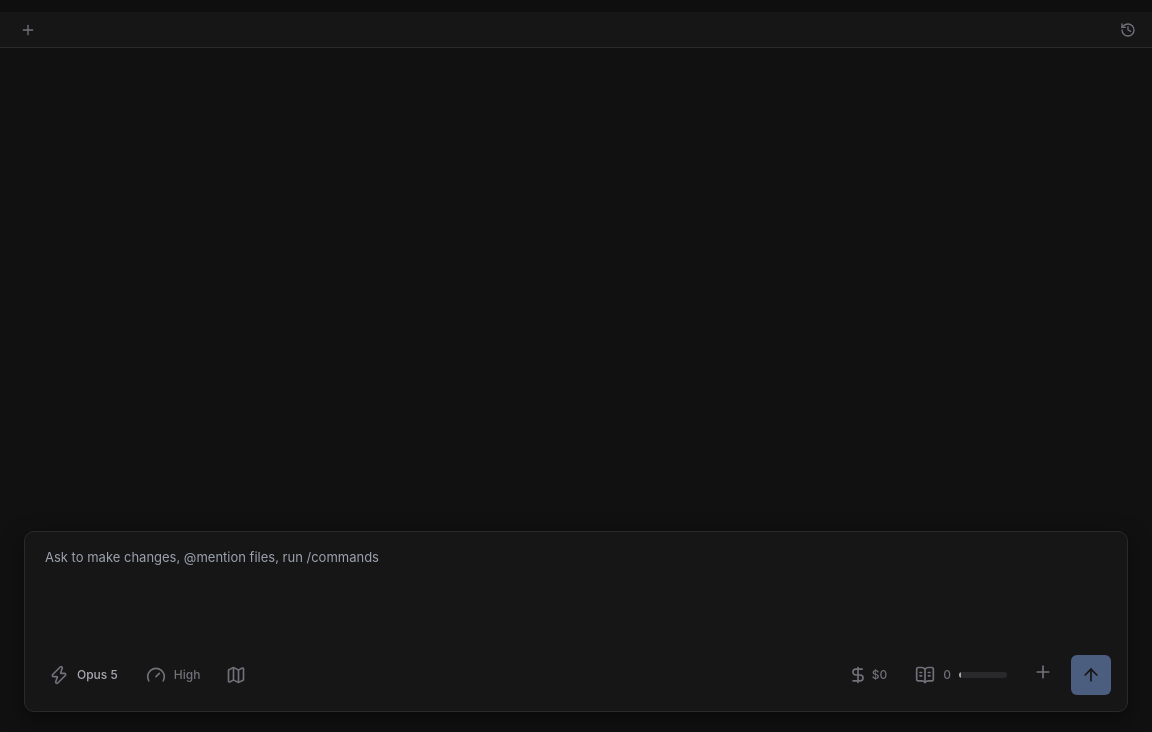
Test: ChatPanel reconstruction › uses the latest provider usage snapshot instead of summing resumed contexts
Click the button with test id "composer-context" at (961, 675), box [907,657,1015,693]
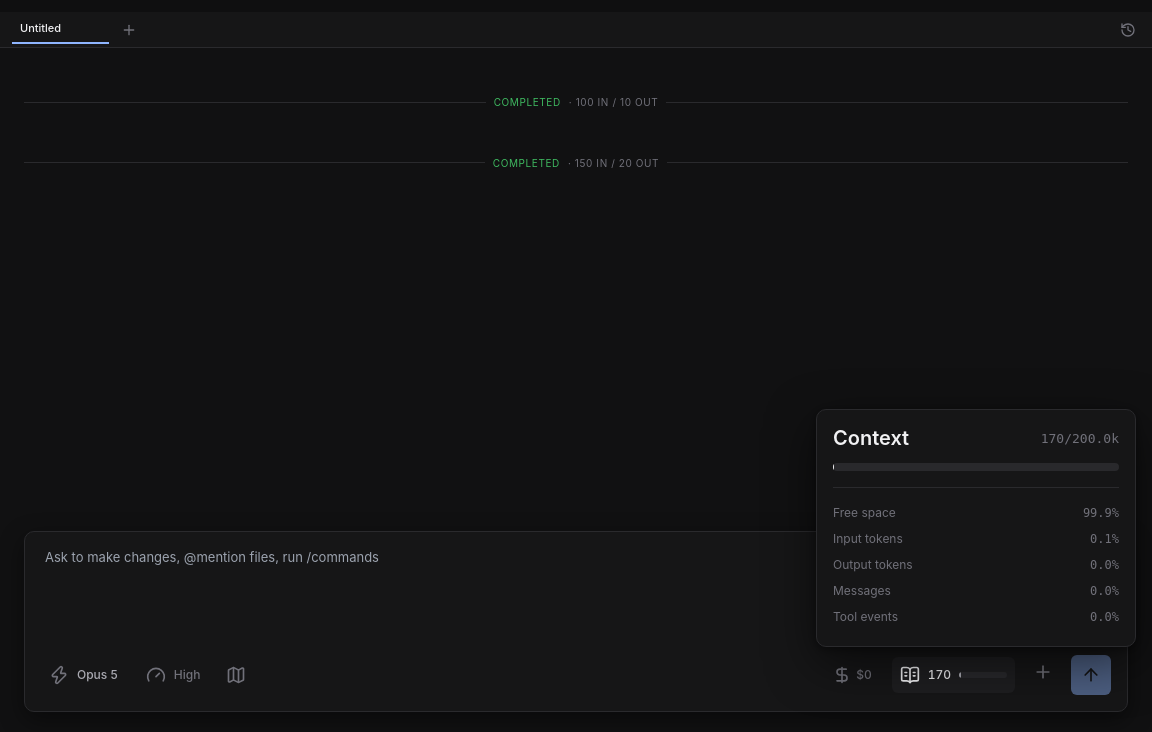
expect the element with test id "composer-context-popover" does not show "280/200.0k": met, box [816,409,1136,647]
expect the element with test id "composer-context-popover" shows "170/200.0k": met, box [816,409,1136,647]
